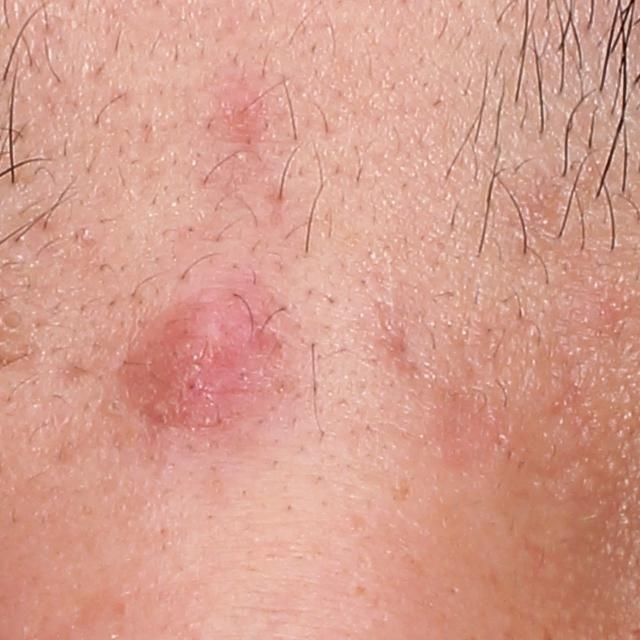nodule: (86, 277, 302, 453)
